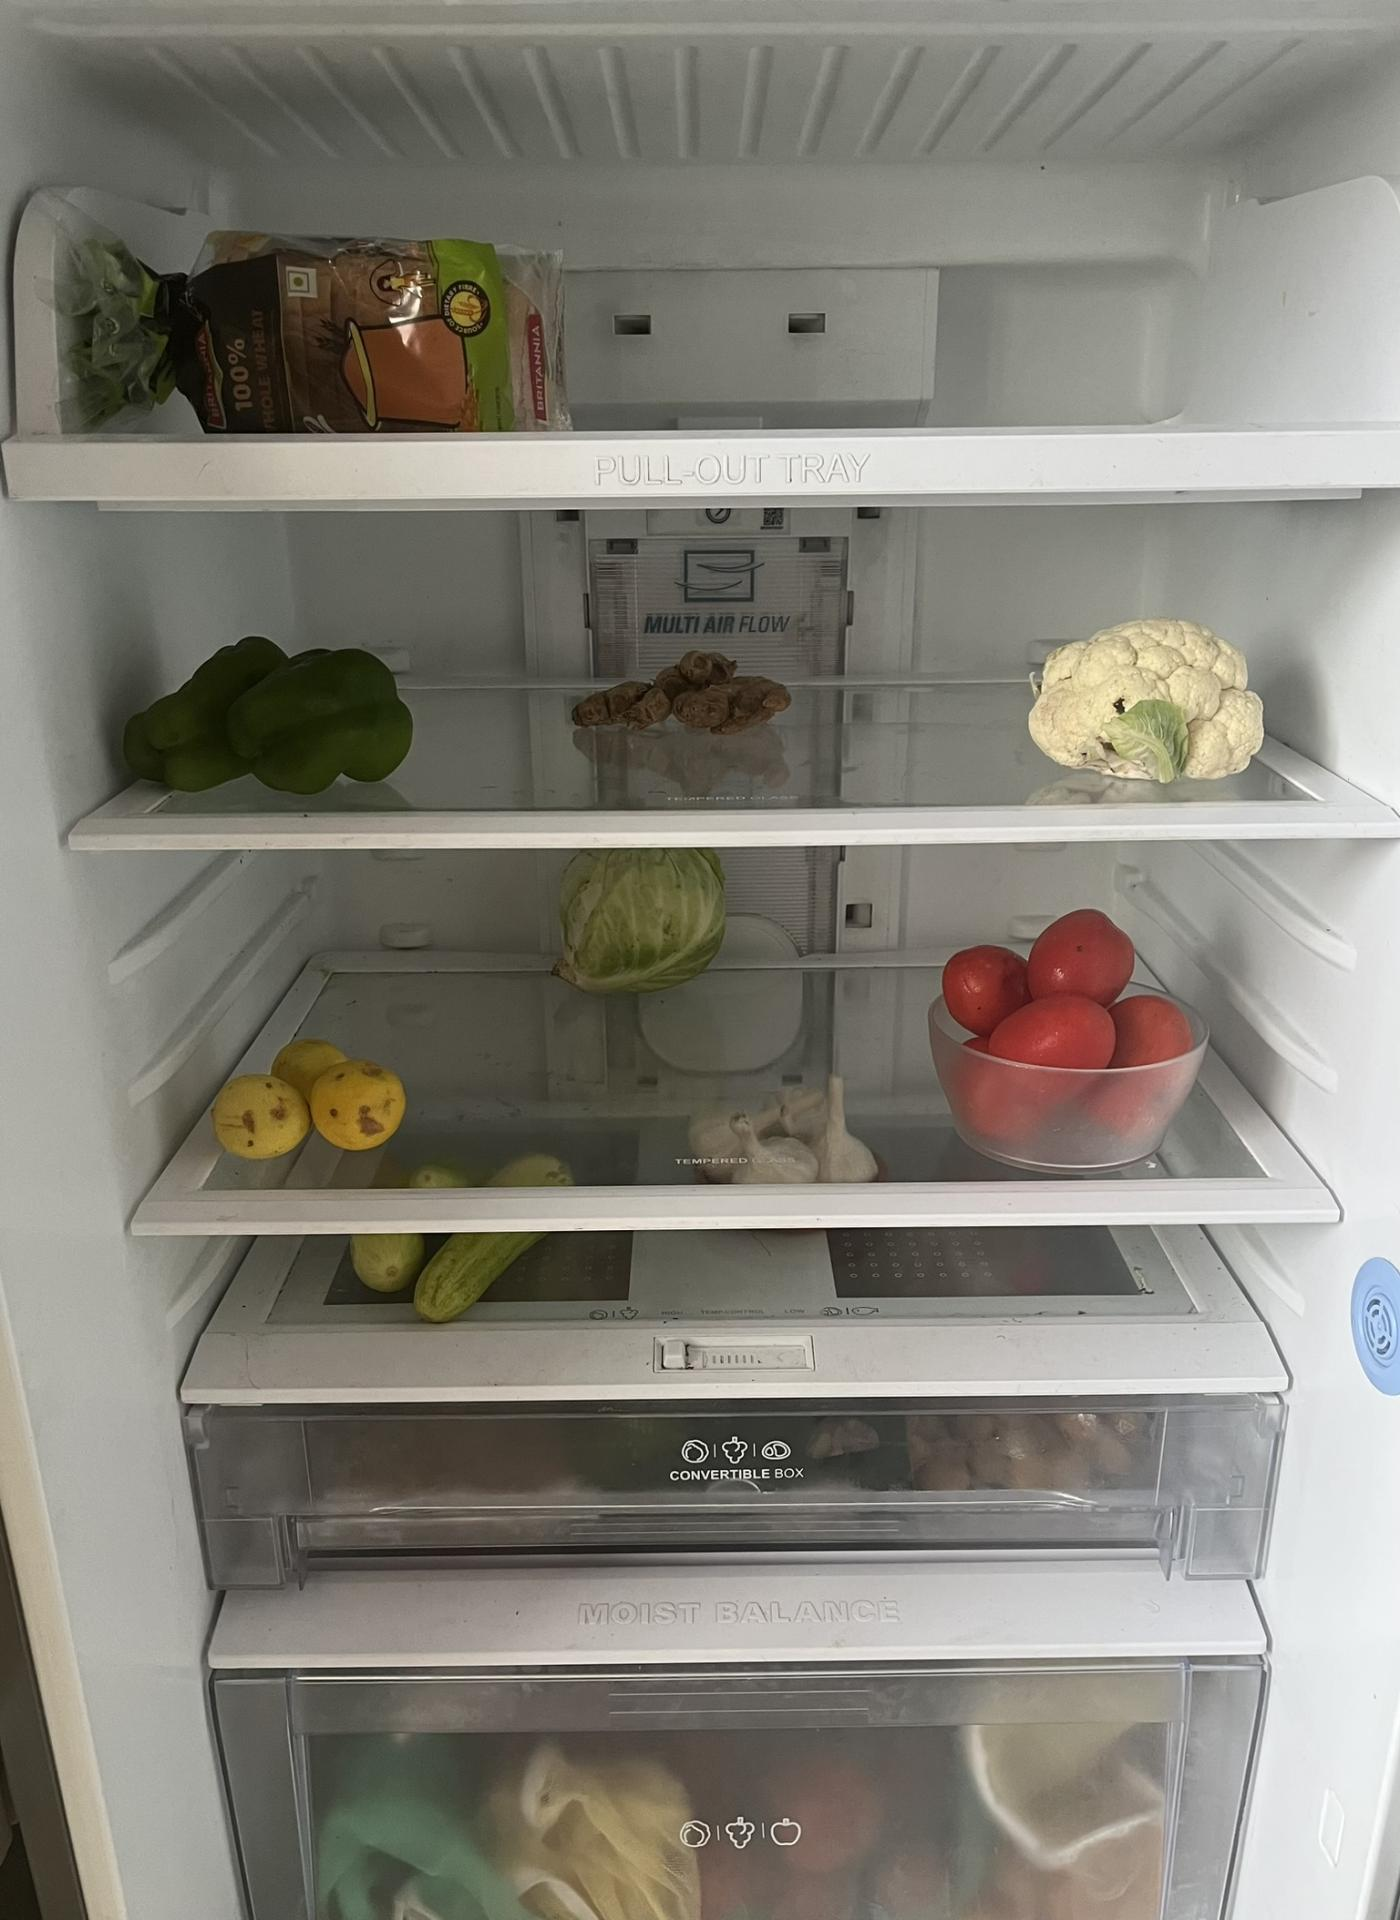bread: (61, 219, 571, 444)
cabbage: (538, 830, 744, 1000)
capsicum: (97, 628, 422, 800)
cauliflower: (1018, 613, 1276, 793)
cucumber: (343, 1160, 605, 1312)
garlic: (680, 1060, 902, 1188)
ginger: (562, 644, 802, 759)
lemon: (207, 1032, 419, 1166)
tomato: (924, 900, 1218, 1169)
